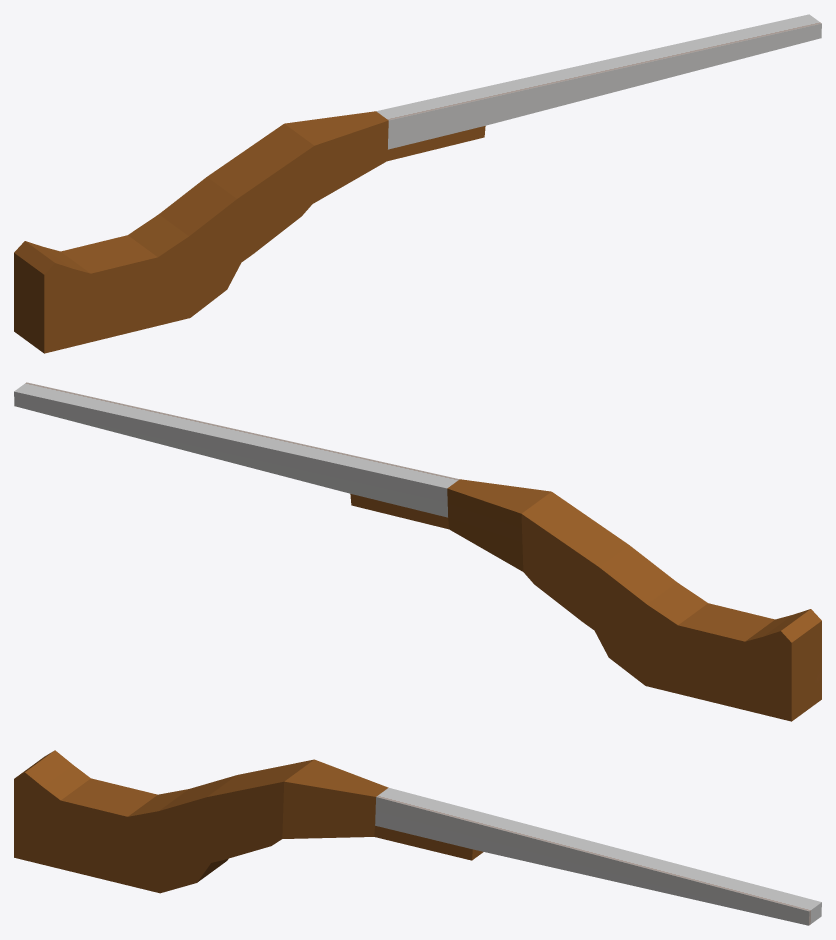
Rendered from rifle com cor.fbx.
3 views of the same model, one above another, from view 1: azimuth 30°, elevation 25°; view 2: azimuth 150°, elevation 25°; view 3: azimuth 330°, elevation 25° (orthographic).
Parts seen in each view (by area): view 1: marrom; view 2: marrom; view 3: marrom.
Boxes of the visible parts, bbox=[...] form: marrom: bbox=[14, 14, 821, 353]; marrom: bbox=[14, 382, 821, 721]; marrom: bbox=[14, 750, 821, 925].
Bounding box in the file's own units: 947 × 163 × 63.12.
Materials: 1 (1 with a texture image).
